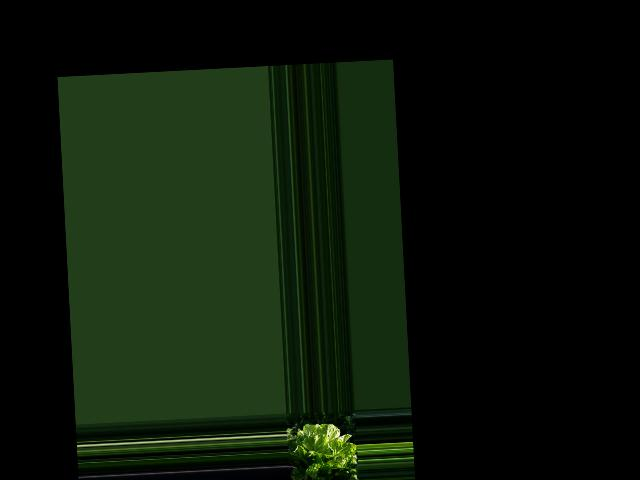lettuce: (288, 423, 351, 480)
